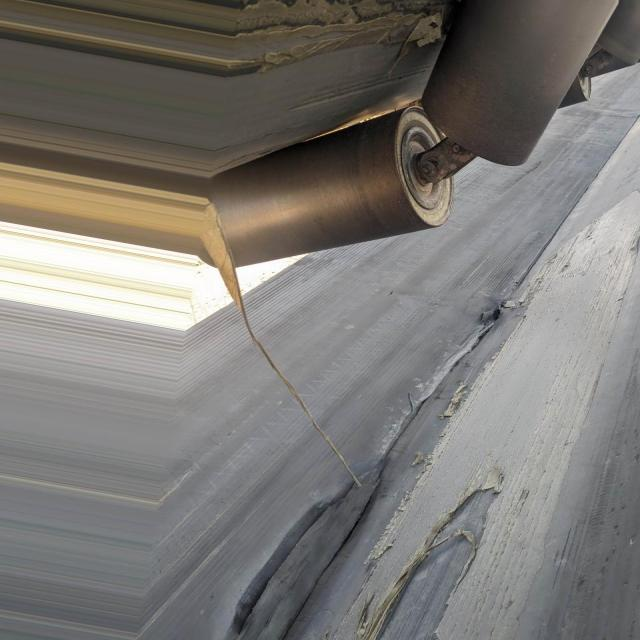Roller: (207, 110, 451, 268), (420, 0, 640, 168)
Tear: (264, 310, 518, 640), (376, 490, 491, 640)
